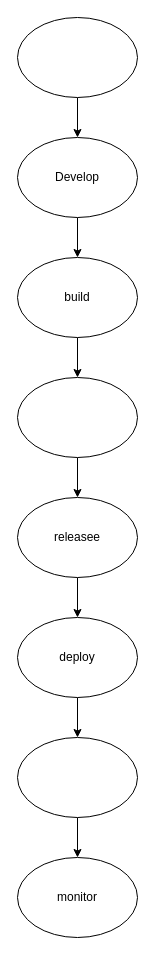
Image size: 155x955. Some labels were removed from this diagram. Here are the shapes that lost their labels. From the top down, the box of each, then its label:
(16, 16, 138, 98): plan
(16, 376, 138, 458): test
(16, 736, 138, 818): operate
